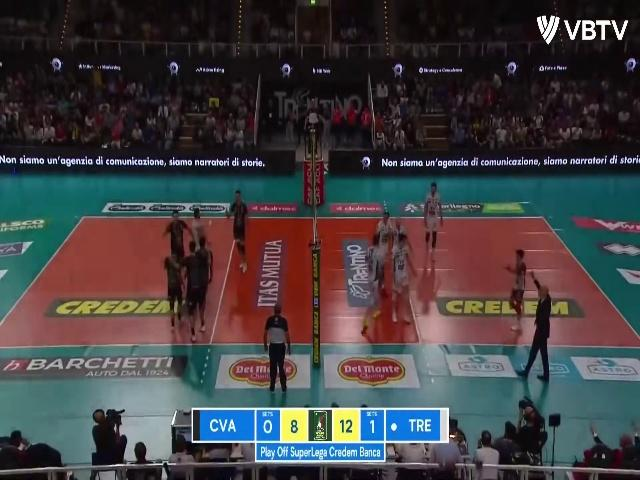volleyball court: (1, 212, 638, 347)
